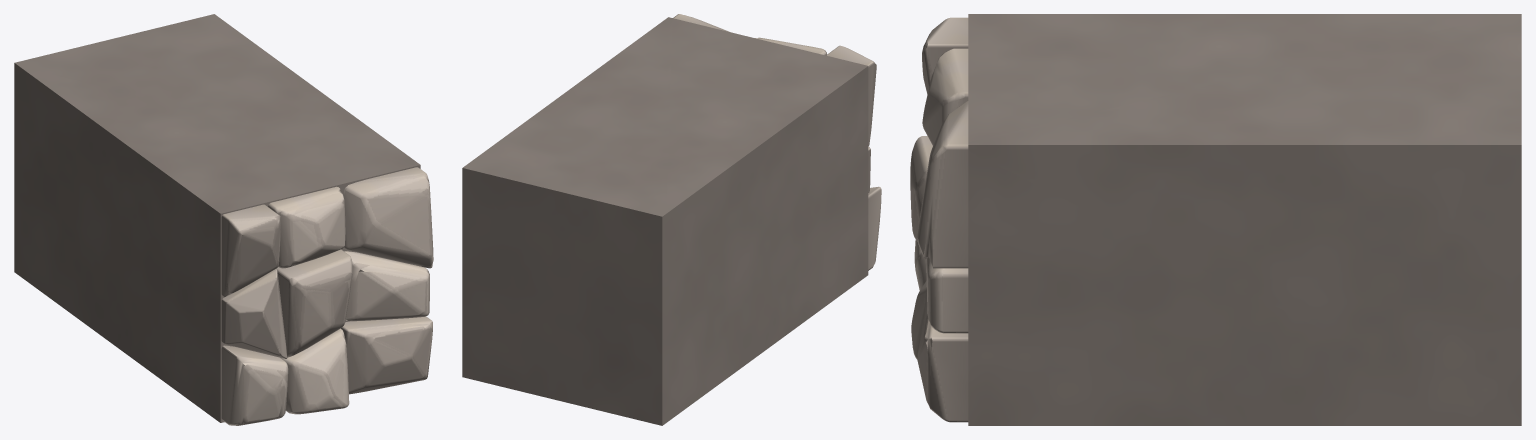
File: CC_T04_LimestoneCore_V2.fbx
3 renders of one model, left to right at view 1: azimuth 30°, elevation 25°; view 2: azimuth 150°, elevation 25°; view 3: azimuth 270°, elevation 25°, orthographic. The views are drawn at different scales.
Visible parts, largest first — view 1: Rock; view 2: Rock; view 3: Rock.
Boxes of the visible parts, bbox=[...] form: Rock: bbox=[14, 14, 433, 425]; Rock: bbox=[462, 14, 881, 425]; Rock: bbox=[910, 14, 1521, 425].
Bounding box in the file's own units: 2 × 2 × 3.94.
